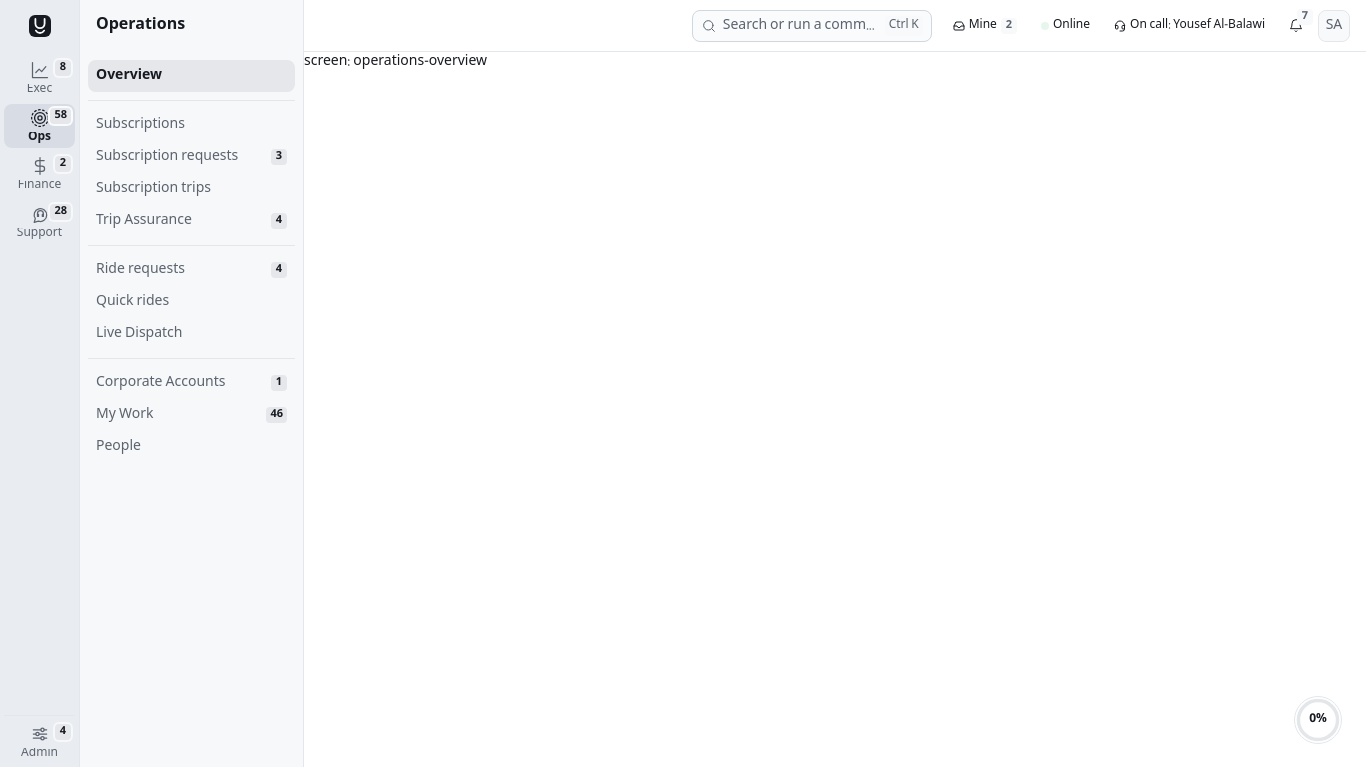
Test: a search that fails says so, and does not report "no matches" › still says "no matches" when the read SUCCEEDS and matched nothing
Step 1. Click the button "Search or run a command Ctrl K" → (812,26), box 692,10 -> 932,42
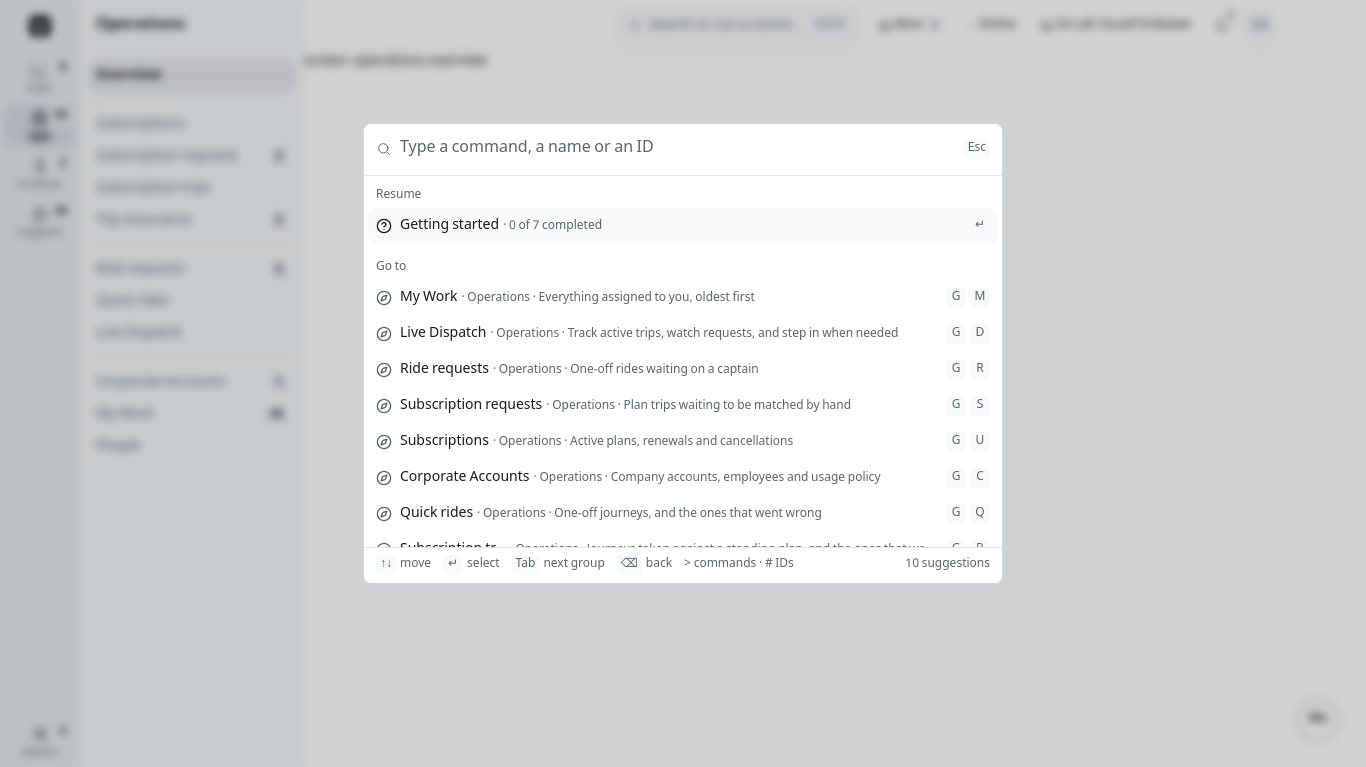
Step 2. Type "zzzzqqqq" into the search field named "Search" → (678,149), box 400,137 -> 956,161
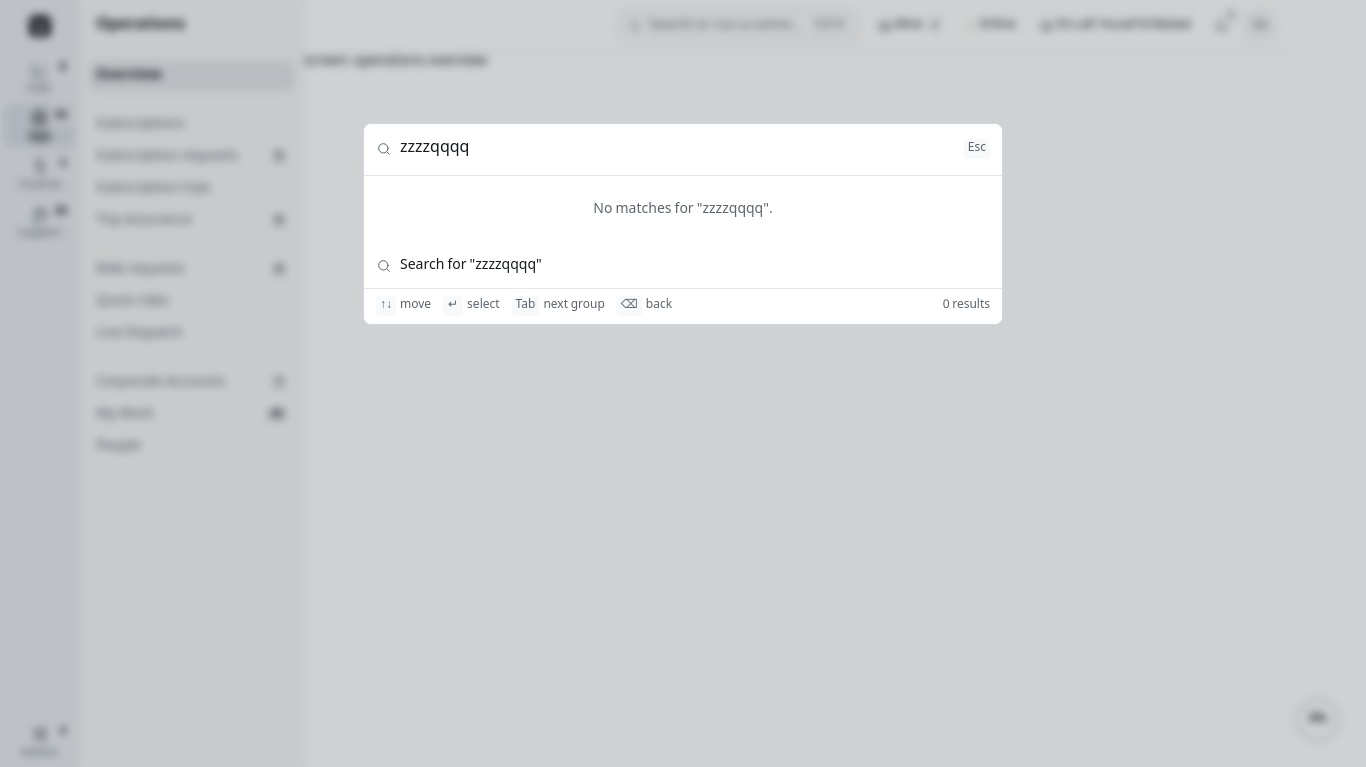
Result: the text "No matches for \"zzzzqqqq\"." is shown at 593,198 -> 773,222
